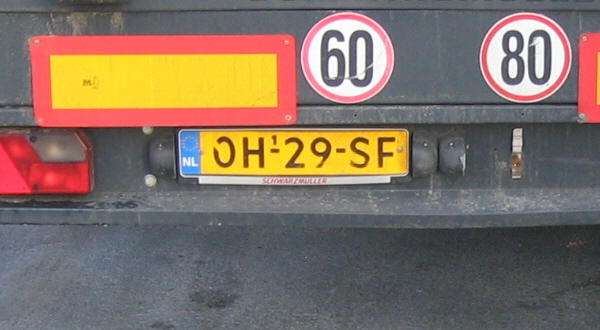license_plate: (177, 128, 410, 177)
